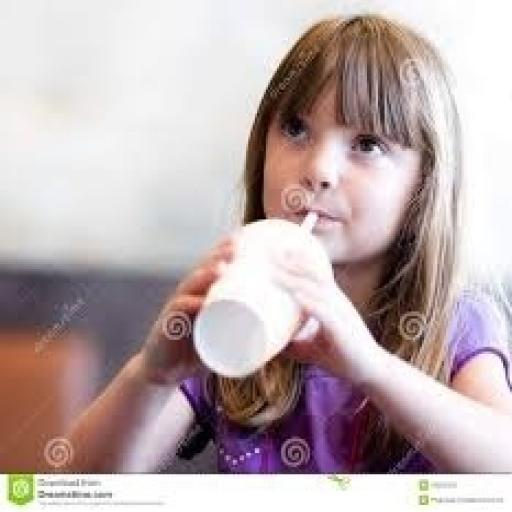drinking: (189, 210, 321, 378)
